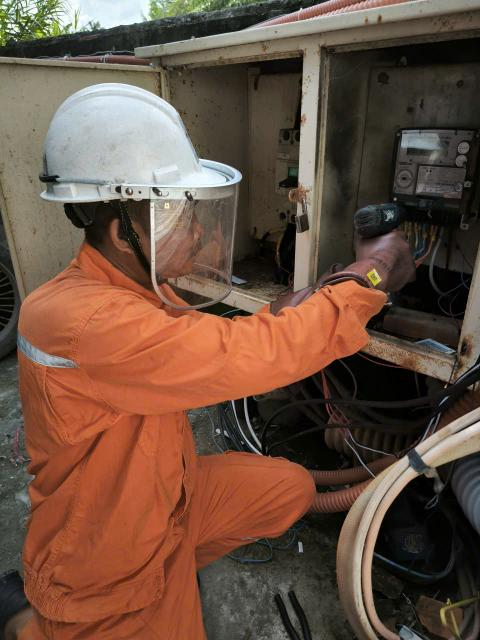gloves: (310, 226, 424, 297), (243, 260, 384, 316)
helmet: (33, 77, 240, 210)
